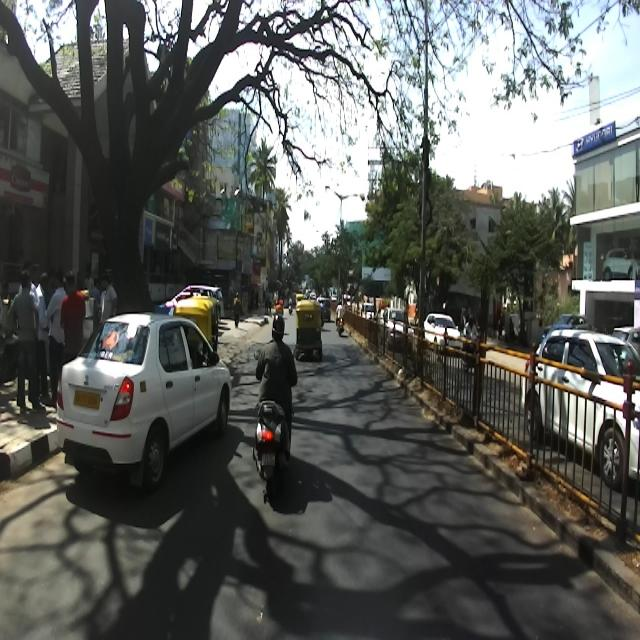Car_Maruti-Suzuki: (523, 326, 639, 475)
Car_TATA: (55, 309, 232, 491)
scooter: (252, 342, 299, 502)
